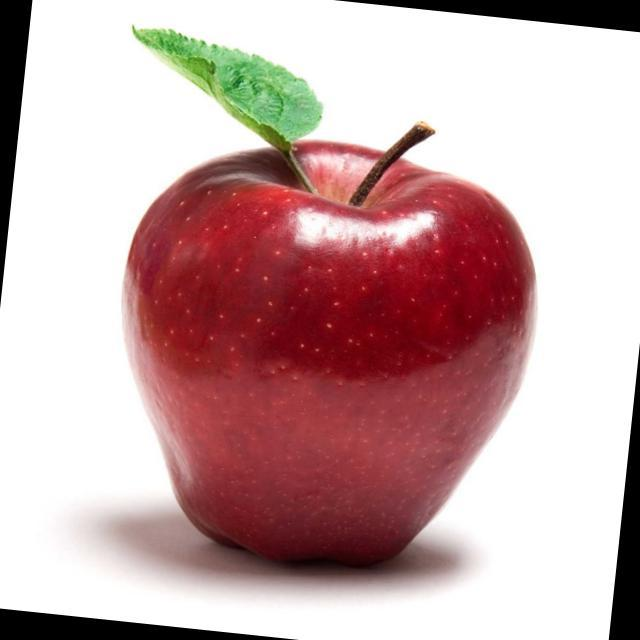APPLE: (95, 132, 550, 586)
